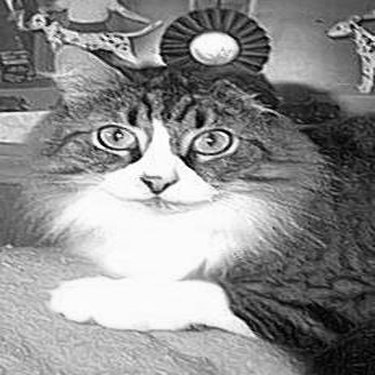cat: (6, 15, 358, 363)
